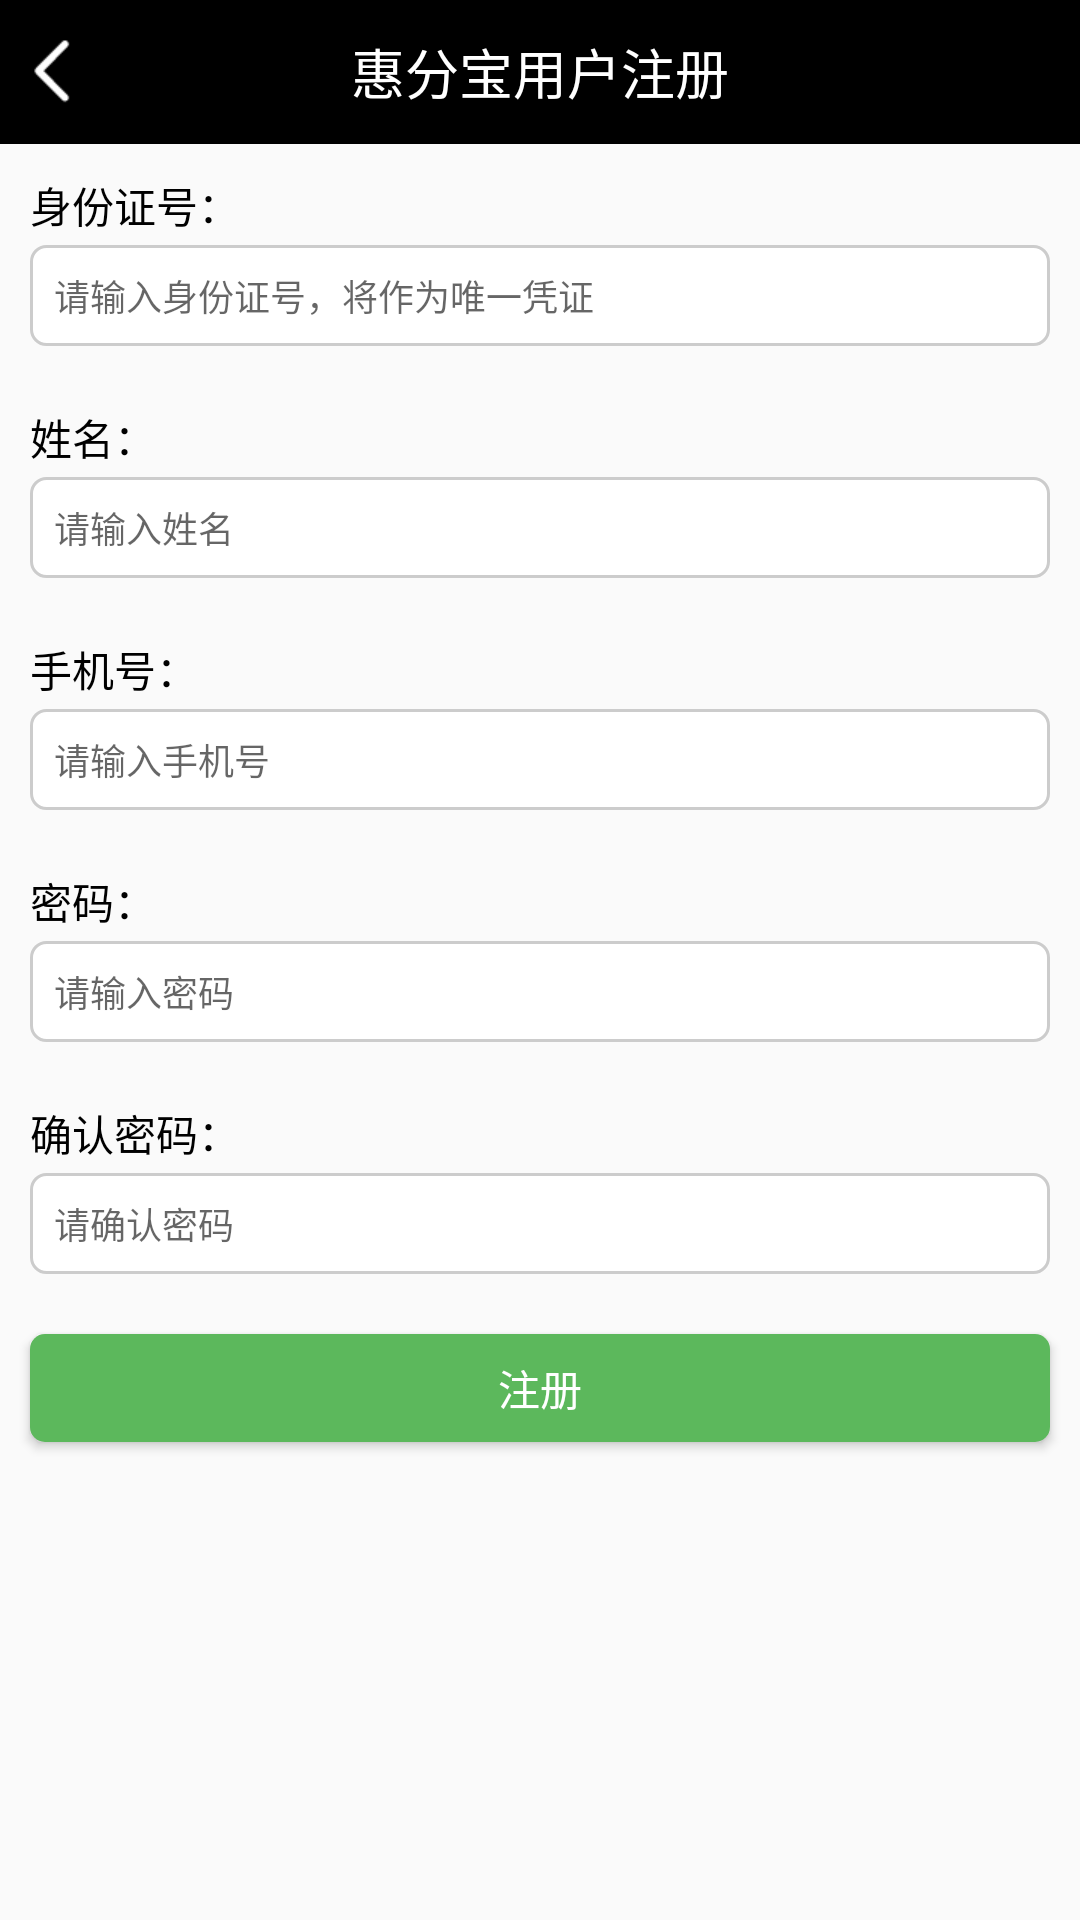

Where to tap for icons on this 1080x1920 app screen, as [x,y]:
back: [52,71]
